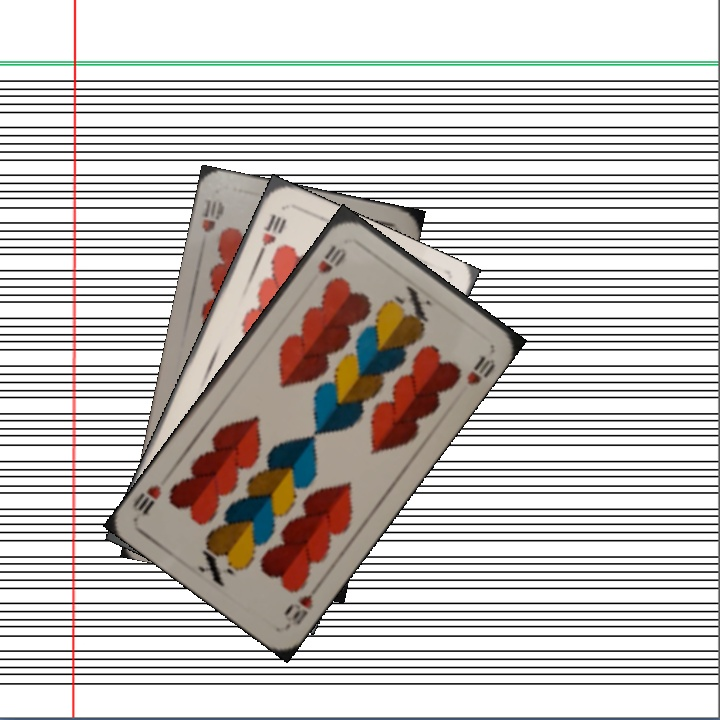H10: (253, 210, 289, 261), (279, 590, 316, 628), (313, 240, 349, 276), (198, 195, 227, 235)
